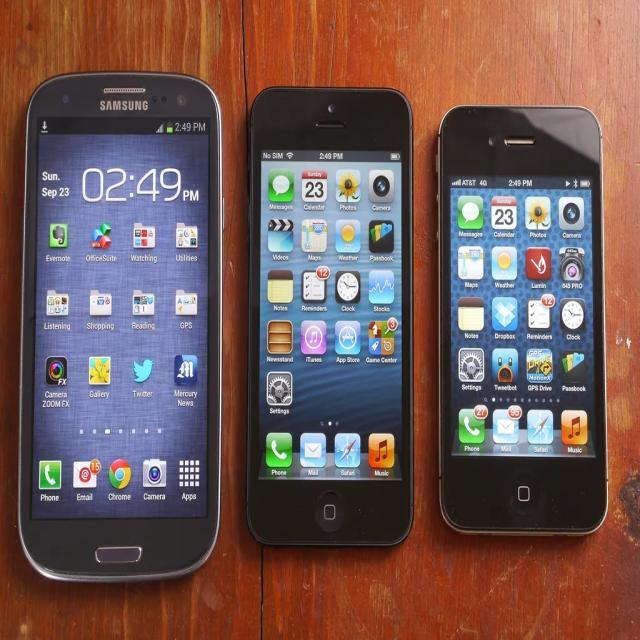smart phone: (15, 51, 225, 592), (242, 65, 428, 562), (438, 80, 622, 577)
